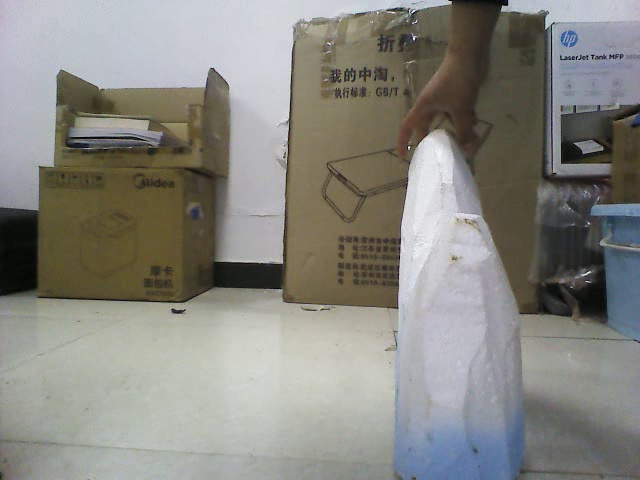iceberg: (384, 123, 529, 479)
